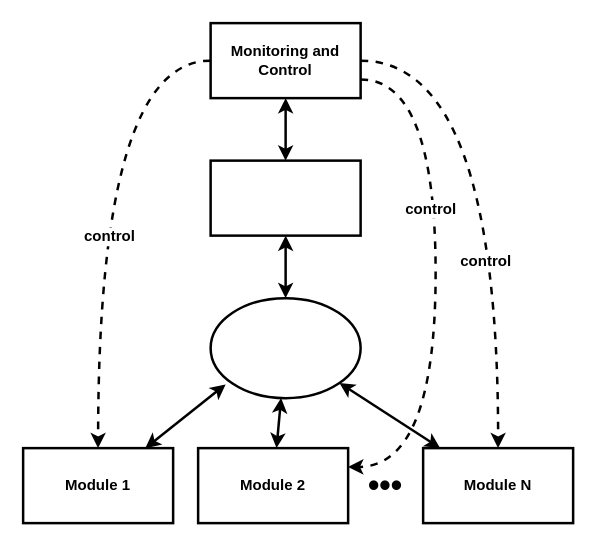
This 595x545 diagram has some shape labels left out. Here are the shapes that lost their labels. From the top down, the centre of each, then its label:
point 285,197: Higher-order Translation
point 285,347: Global Workspace
